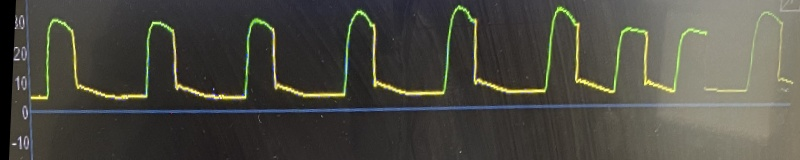normal_pressure: (42, 1, 727, 111)
